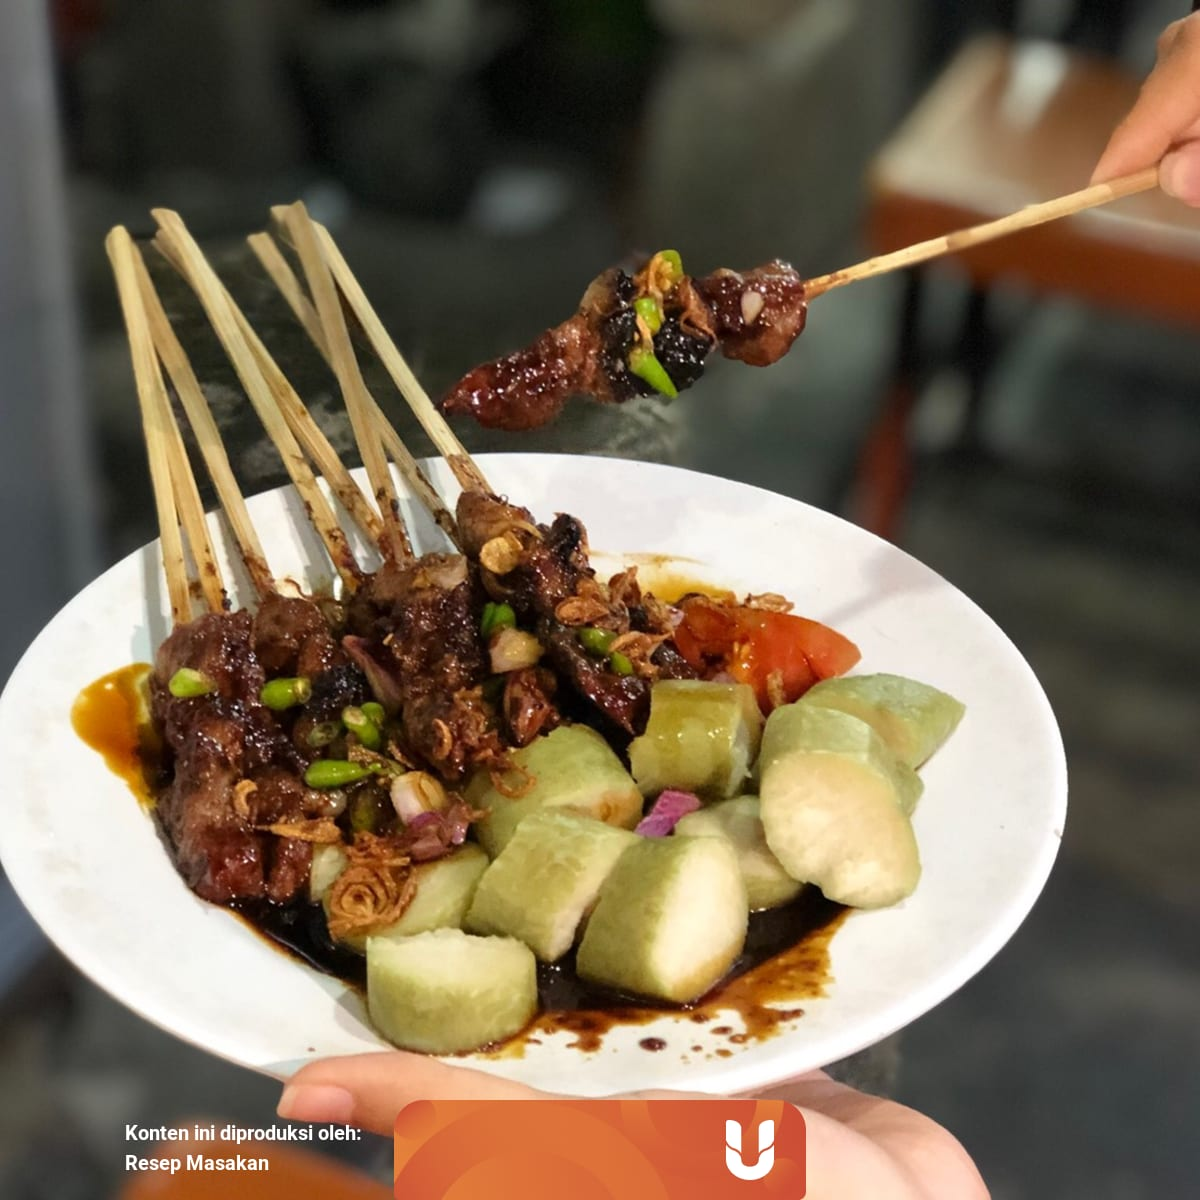sate: (58, 154, 1101, 1080)
